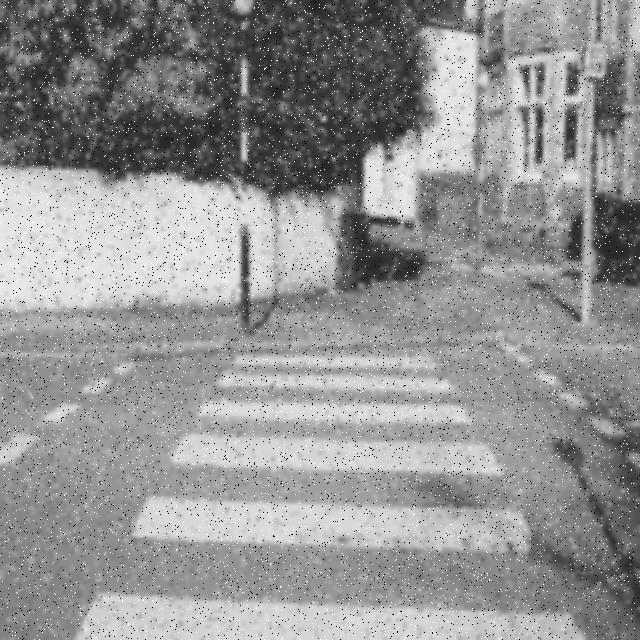crosswalk: (71, 348, 591, 638)
